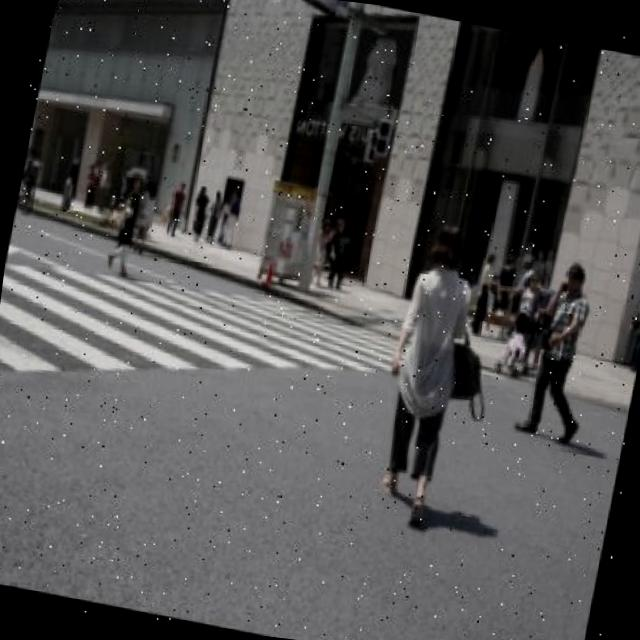Person: (366, 220, 488, 530), (510, 257, 606, 443), (103, 166, 150, 280), (466, 247, 504, 339)
